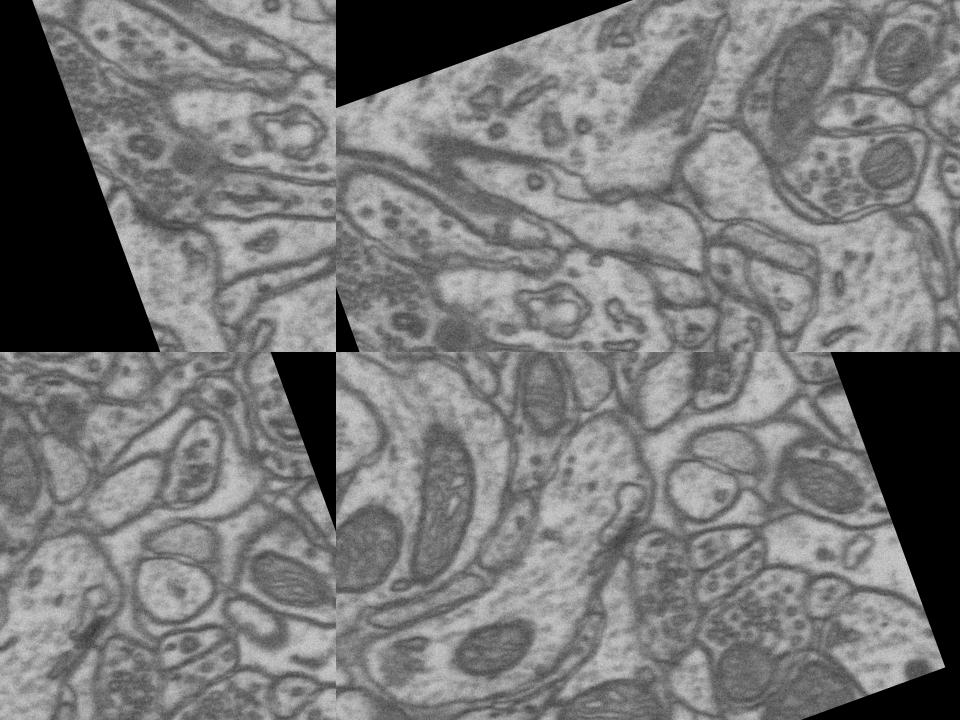mitochondria: (365, 411, 513, 591), (742, 7, 865, 130), (614, 29, 731, 136), (336, 482, 426, 611), (766, 430, 874, 537), (855, 4, 958, 108), (735, 638, 863, 720), (235, 528, 336, 628), (436, 604, 546, 693), (844, 116, 941, 210), (532, 661, 678, 720), (698, 626, 791, 718), (497, 352, 588, 442), (0, 410, 62, 521)
